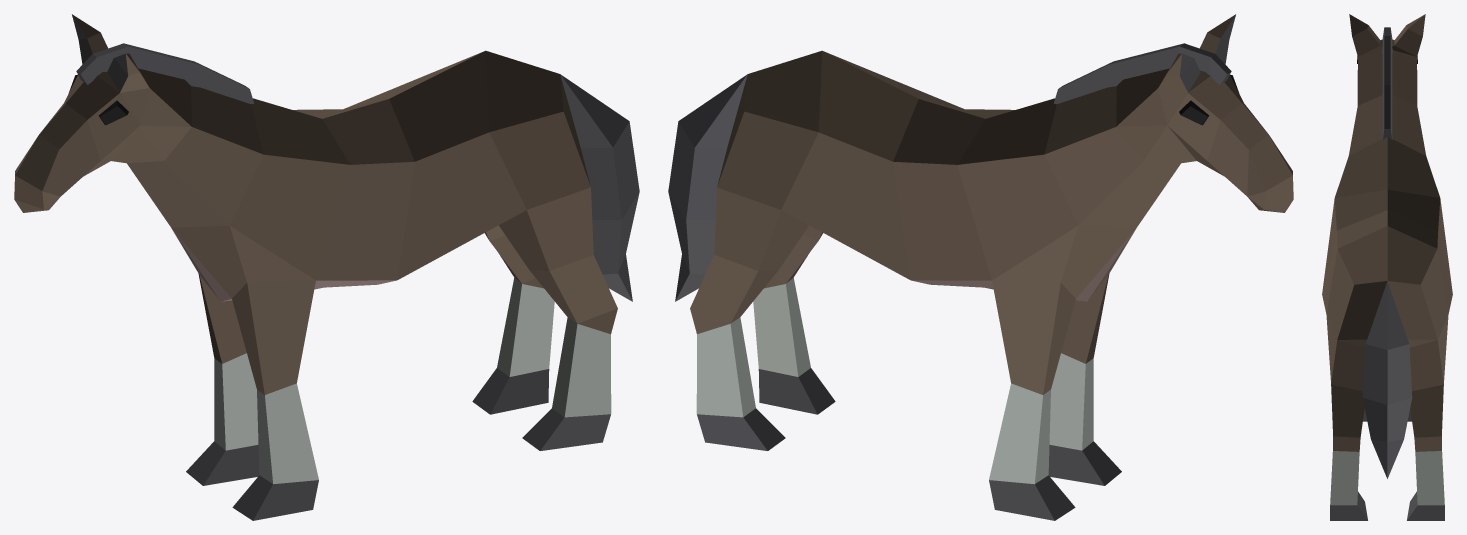
Rendered from horse.obj.
The picture shows the model from 3 angles, left to right: view 1: azimuth 30°, elevation 25°; view 2: azimuth 150°, elevation 25°; view 3: azimuth 270°, elevation 25°; orthographic projection. The views are drawn at different scales.
Visible parts, largest first — view 1: obj1; view 2: obj1; view 3: obj1.
Part boxes in pixels (x1,y1,x2,y2): obj1: [14, 14, 639, 520]; obj1: [668, 14, 1293, 520]; obj1: [1322, 14, 1452, 520].
Bounding box in the file's own units: 3.06 × 2.3 × 0.786.
